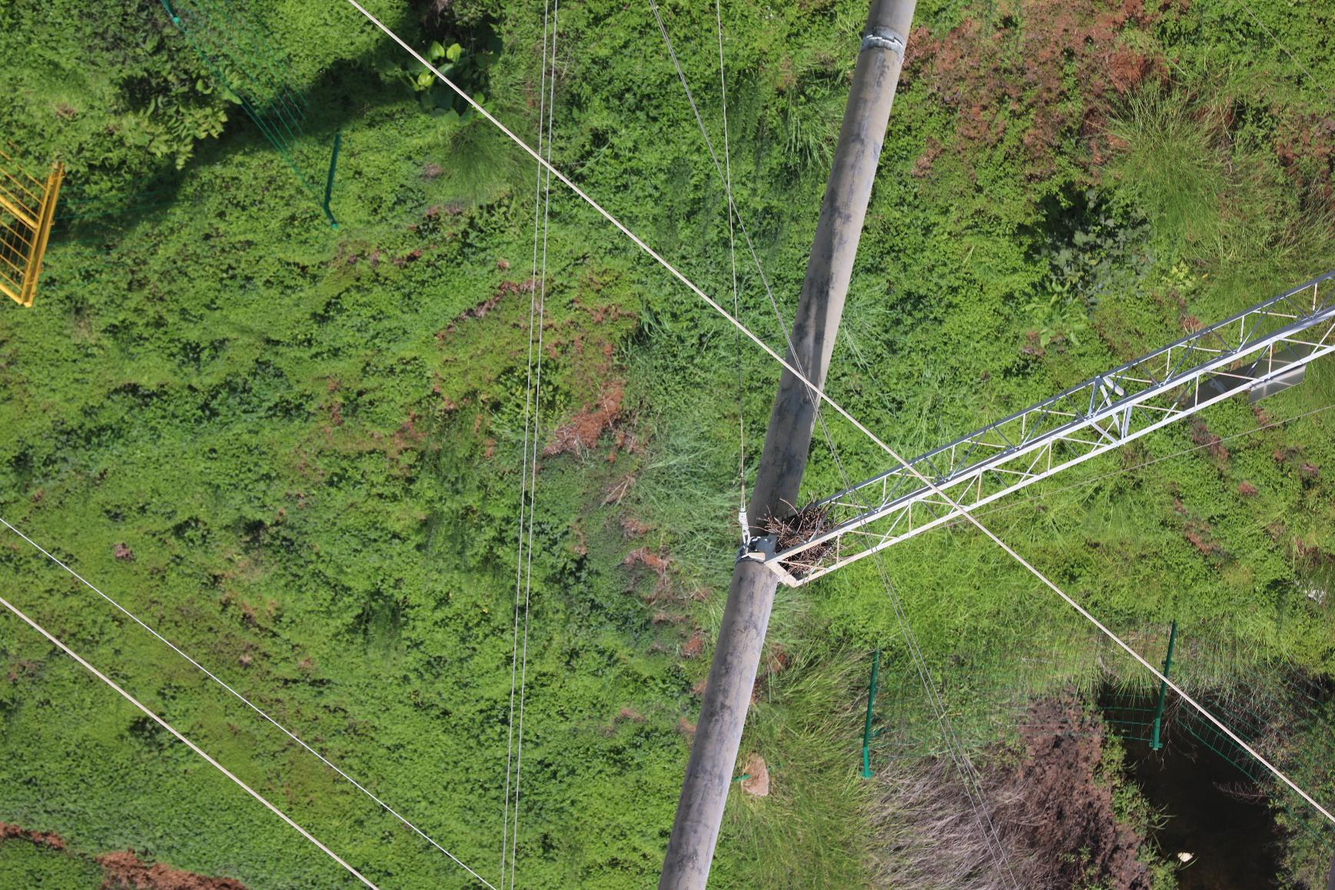nest: (759, 496, 841, 580)
